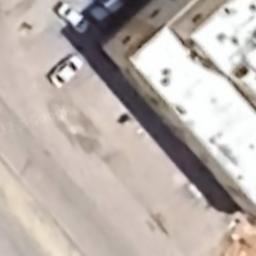SUV: (90, 0, 124, 22)
sedan: (54, 2, 90, 35), (48, 54, 82, 87)
